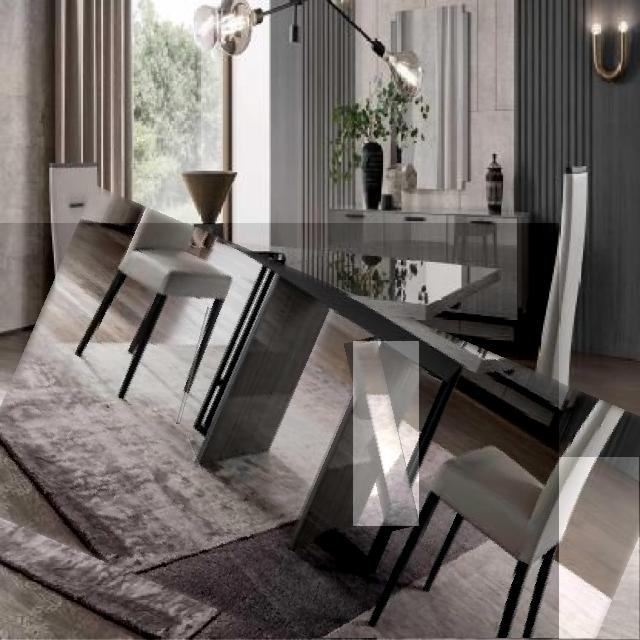floor: (0, 224, 559, 639), (530, 458, 640, 639), (353, 341, 419, 526), (176, 309, 211, 425), (506, 559, 541, 640), (185, 436, 203, 473)
